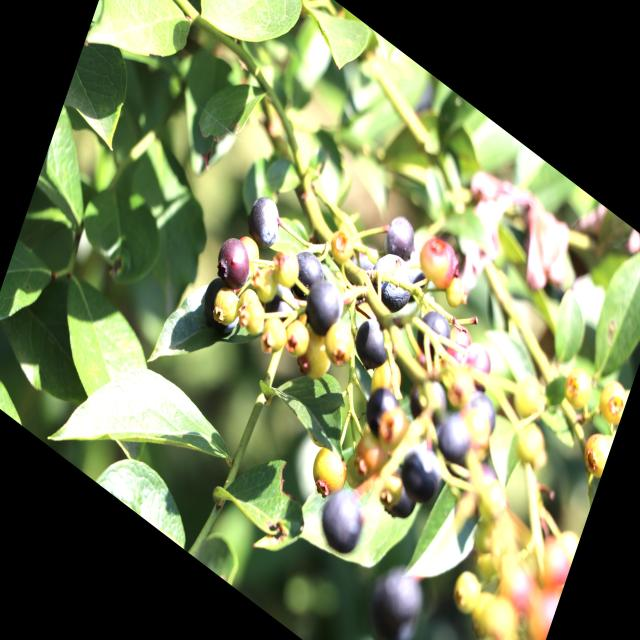blueberry: (309, 475, 374, 570), (360, 552, 430, 640), (361, 238, 420, 324), (296, 266, 352, 350), (395, 432, 449, 510), (194, 271, 248, 349), (240, 183, 292, 261), (356, 374, 406, 452), (210, 223, 260, 301), (402, 368, 451, 438), (349, 309, 396, 381), (433, 401, 480, 471), (410, 300, 456, 368), (286, 236, 330, 306), (457, 381, 502, 445), (373, 471, 419, 532), (379, 204, 422, 268), (260, 276, 302, 338)
blueberry-halfripe: (412, 226, 462, 298), (457, 333, 495, 390), (442, 314, 474, 366)
blueberry-unripe: (306, 438, 354, 507), (360, 342, 406, 408), (296, 324, 340, 392), (591, 366, 632, 432), (318, 315, 358, 377), (576, 423, 614, 488), (350, 428, 390, 488), (266, 239, 303, 296), (560, 360, 597, 415), (258, 310, 294, 362), (282, 313, 316, 362), (325, 224, 357, 271), (239, 291, 269, 339), (443, 273, 471, 316)
